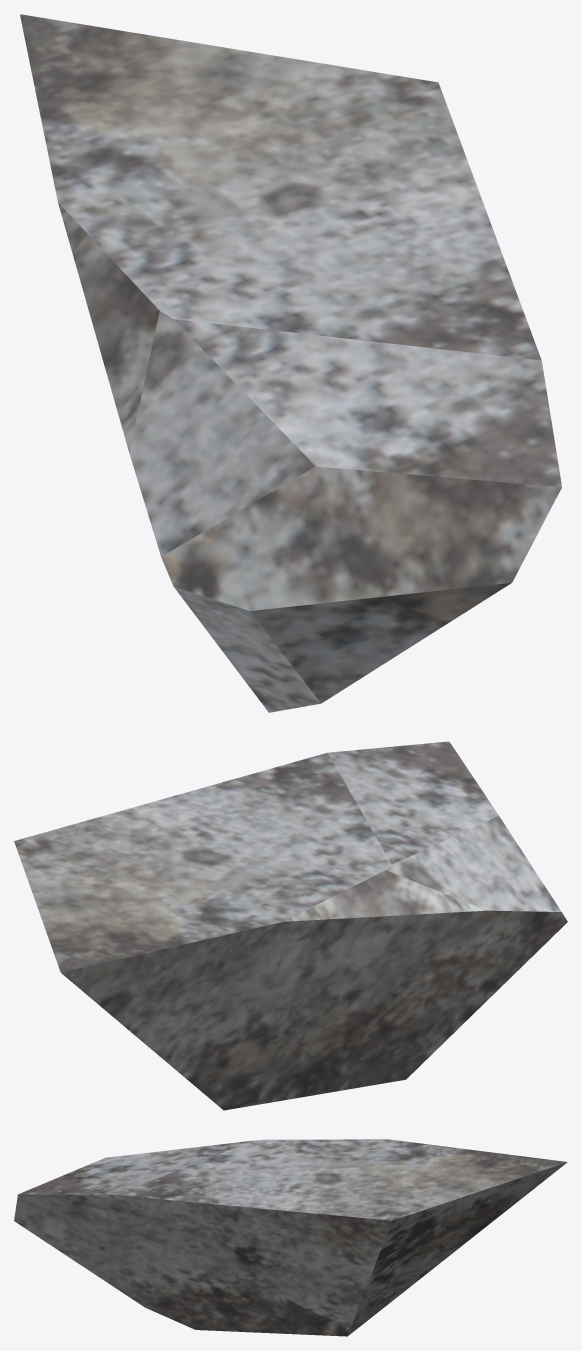
File: Asteroid_Large_001_02_002_03_002.fbx
3 renders of one model, top to bottom at view 1: azimuth 30°, elevation 25°; view 2: azimuth 150°, elevation 25°; view 3: azimuth 270°, elevation 25°, orthographic. The views are drawn at different scales.
Parts seen in each view (by area): view 1: Asteroid_Large_001_02_002_03_002; view 2: Asteroid_Large_001_02_002_03_002; view 3: Asteroid_Large_001_02_002_03_002.
Boxes of the visible parts, <box> form: Asteroid_Large_001_02_002_03_002: <box>20,14,561,712</box>; Asteroid_Large_001_02_002_03_002: <box>14,741,567,1110</box>; Asteroid_Large_001_02_002_03_002: <box>14,1139,567,1336</box>.
Bounding box in the file's own units: 4.48 × 3.2 × 8.08.
